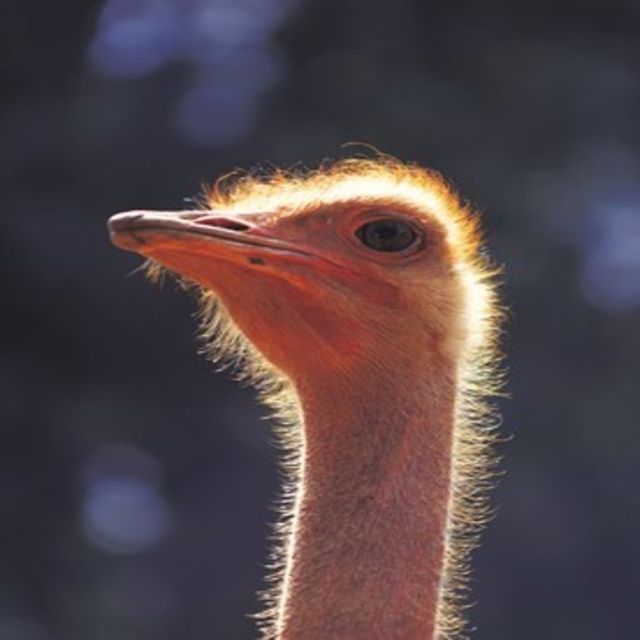Ostrich: (100, 155, 496, 633)
